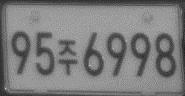5: (34, 31, 55, 75)
6: (82, 30, 104, 76)
8: (154, 33, 176, 78)
9: (10, 29, 32, 75), (105, 31, 127, 77), (130, 32, 151, 78)
주: (56, 39, 79, 76)
